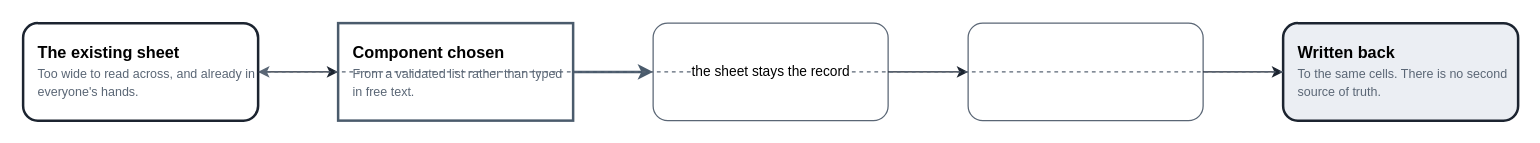
Image size: 1540x143. Some labels were removed from this diagram. Here are the shapes that lost their labels. From the top down, the box of each, then its label:
(652, 22, 888, 121): Row located Behind the form, so nobody scrolls sideways to find it.
(967, 22, 1203, 121): Four frames Grouped by subject instead of by the order the sheet grew in.
